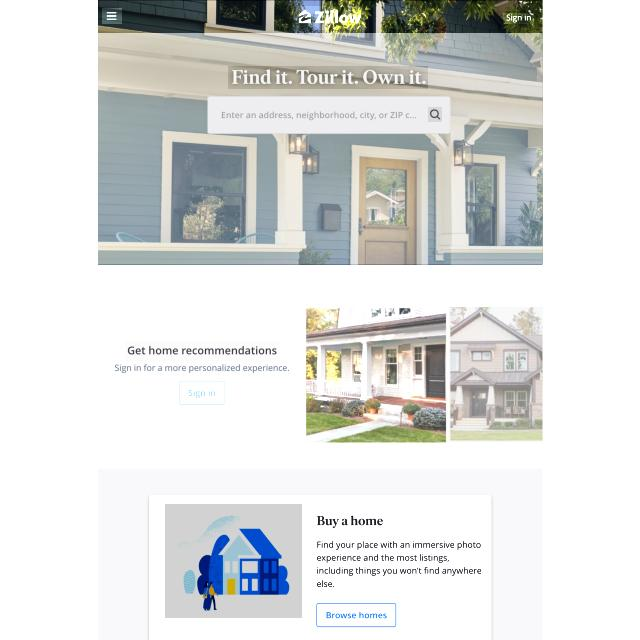CheckBox: (316, 601, 397, 627), (178, 382, 227, 408), (503, 13, 534, 24)
CheckedTextView: (208, 96, 450, 134)
Input field: (313, 538, 486, 592)
bag: (97, 0, 543, 33)
breadcrumbs: (125, 341, 280, 361), (315, 512, 385, 531)
card: (98, 1, 542, 264)
carousel: (428, 107, 442, 122)
content: (165, 504, 302, 618)
copy: (306, 307, 446, 443), (449, 307, 543, 443)
data feed: (324, 610, 390, 620)
date picker: (293, 6, 366, 30)
decoration: (102, 8, 122, 24)
footer: (220, 109, 420, 122), (187, 390, 220, 402)
image: (228, 66, 428, 89)
